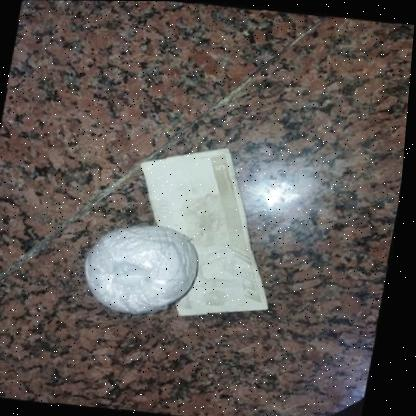five-back-vef: (116, 138, 301, 325)
